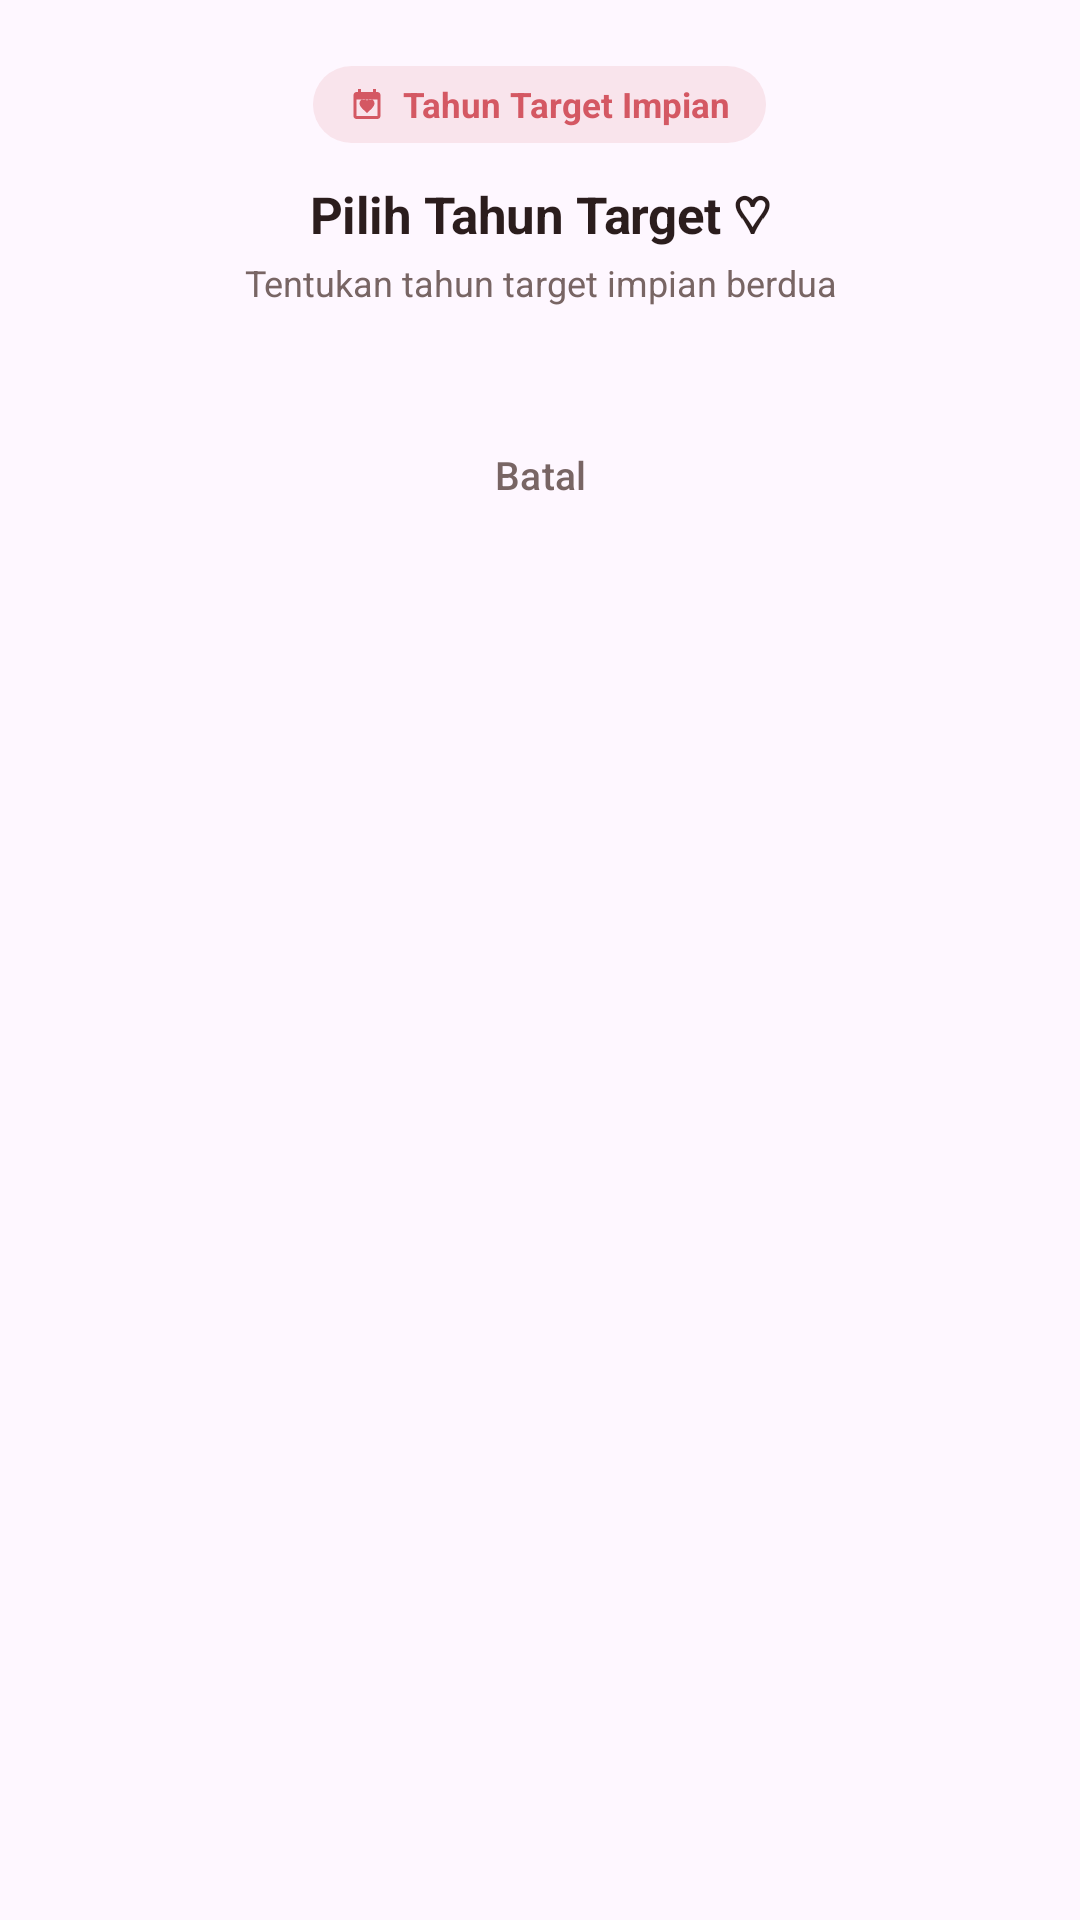

Icon bounding boxes for this 1080px×1920px phone screenshot, format box=[x1, y1, x2, y2]:
calendar heart: box=[353, 89, 381, 119]
